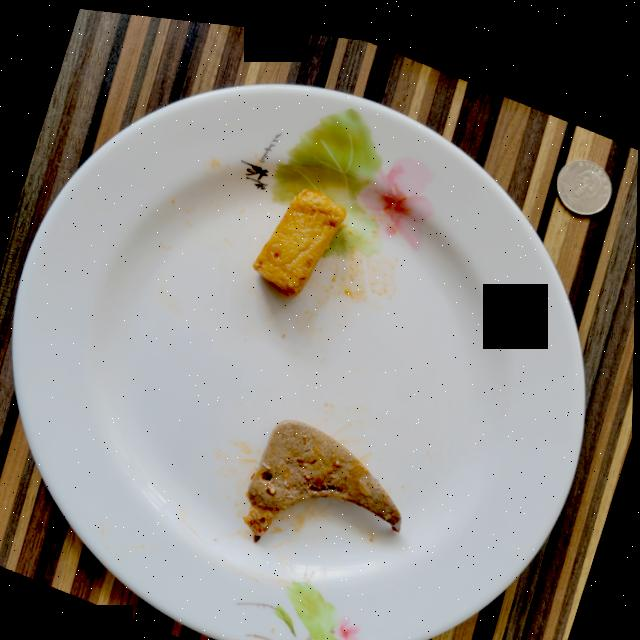coin: (556, 146, 611, 201)
creamy tofu: (254, 181, 347, 290)
pig liver: (245, 412, 403, 535)
